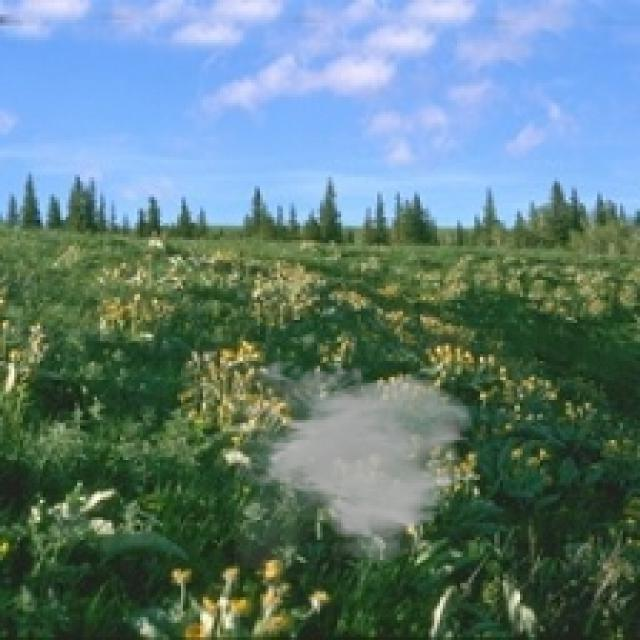smoke: (234, 352, 477, 568)
